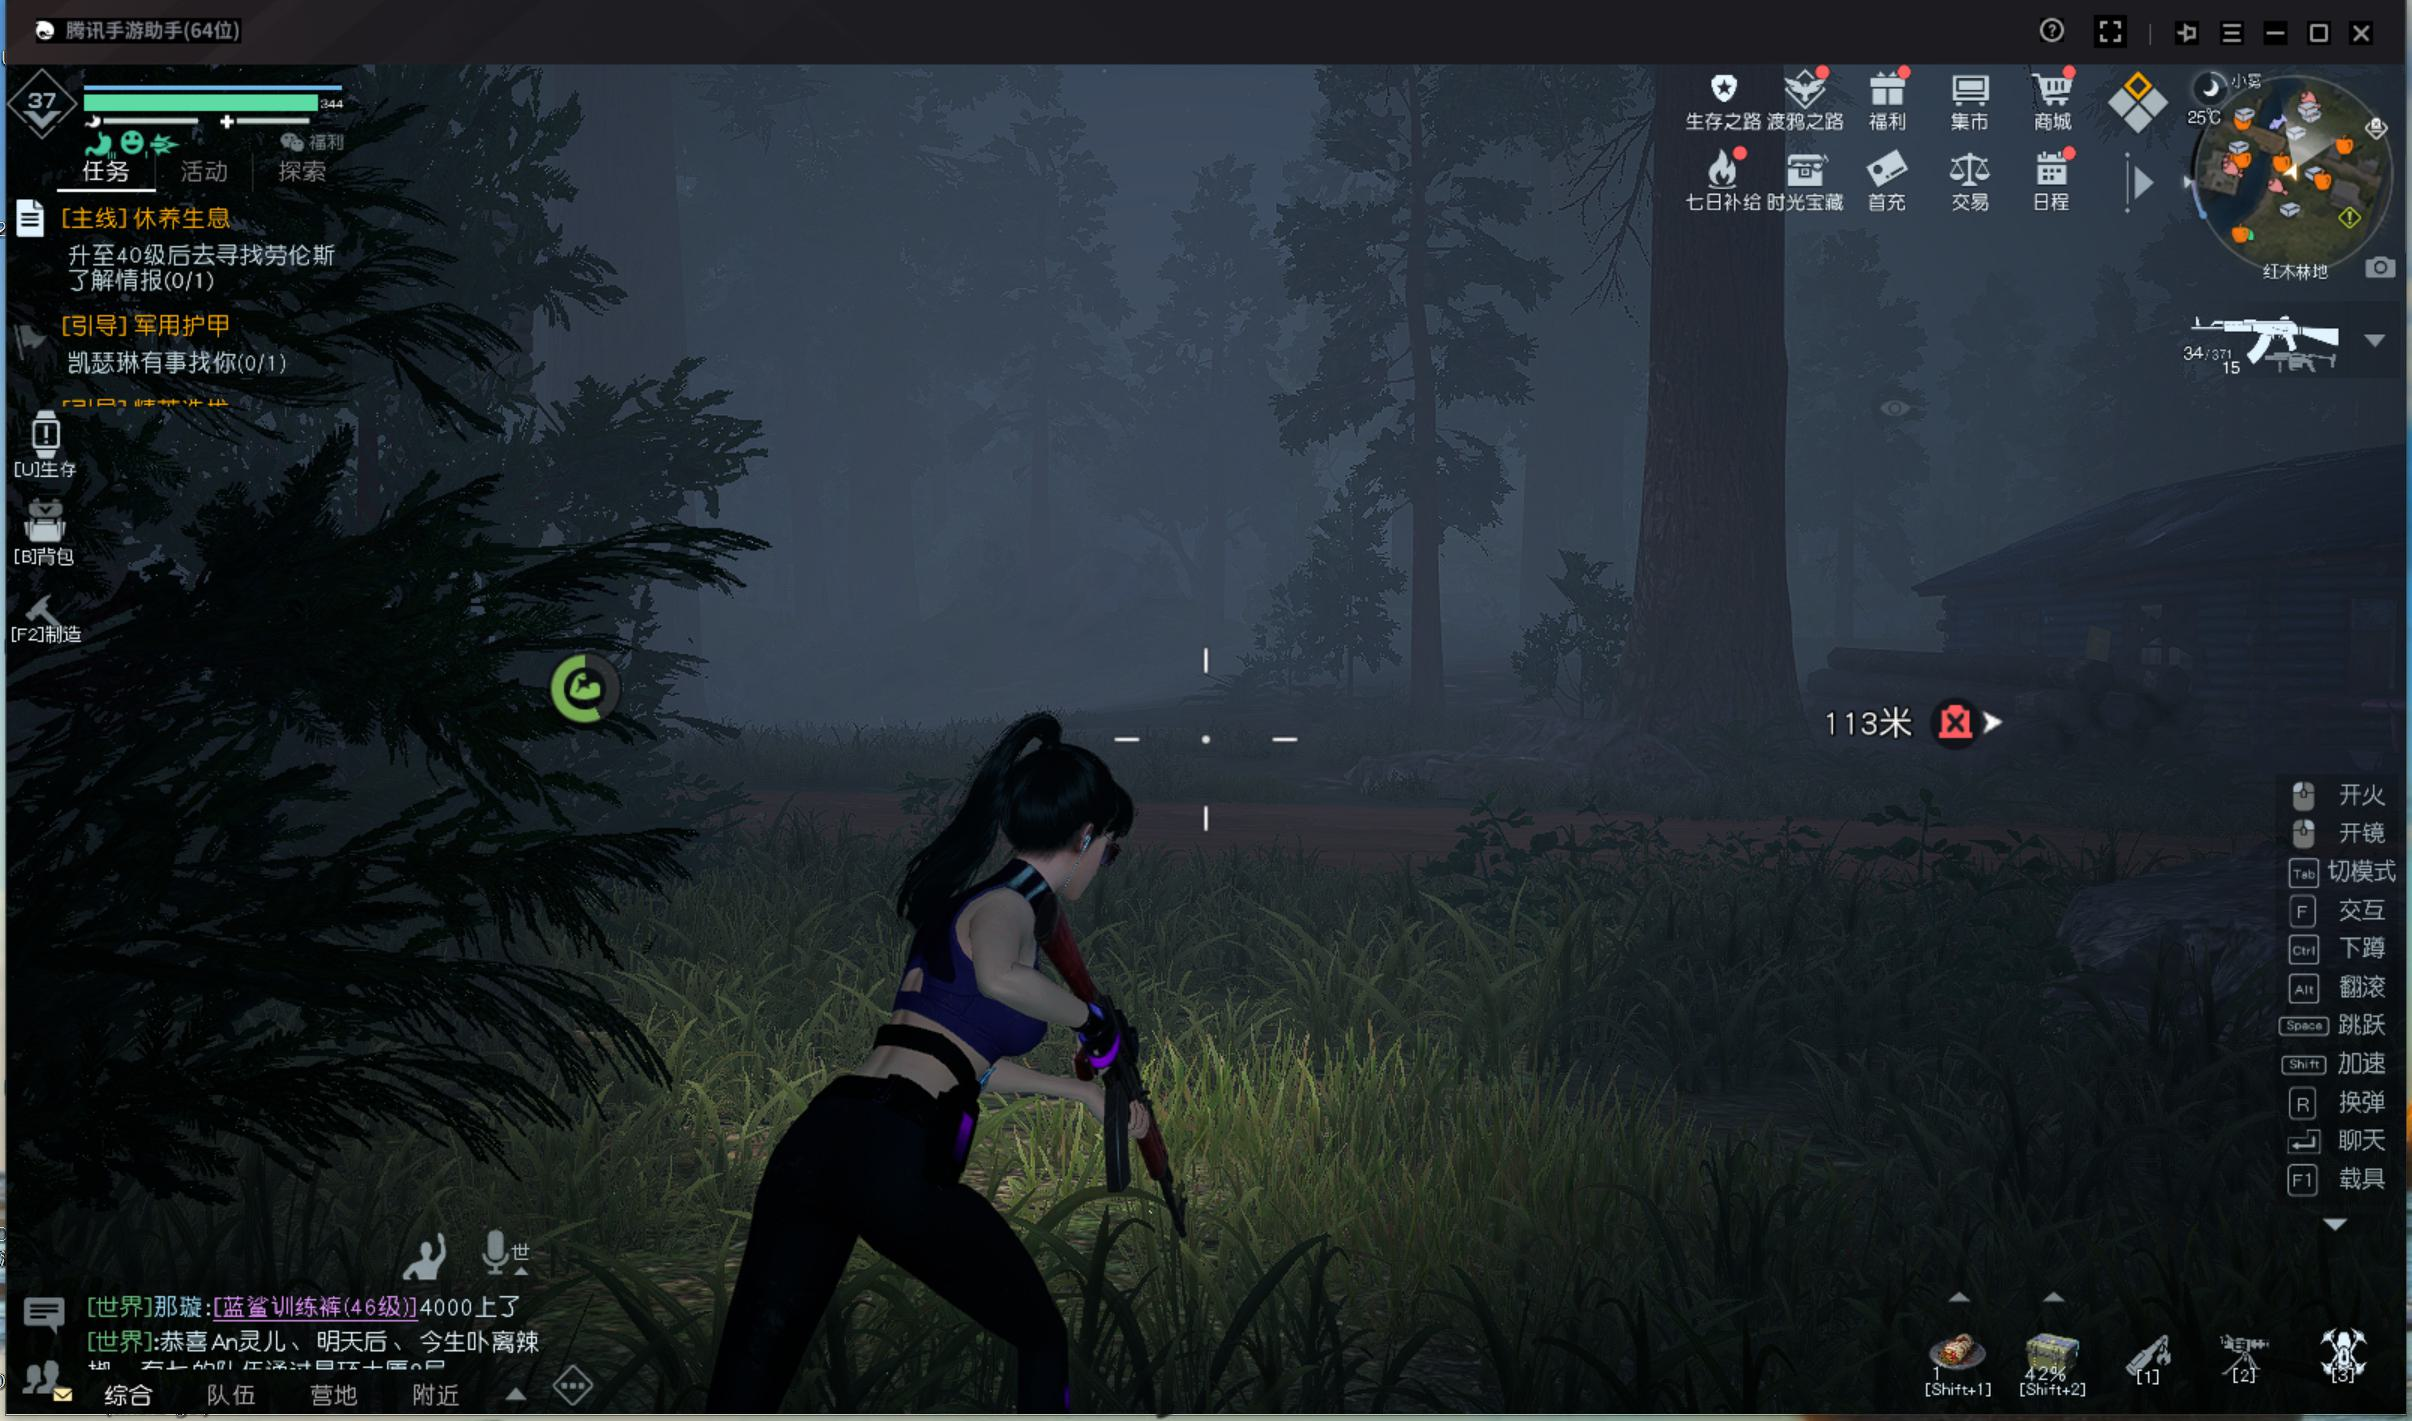tree: (1605, 173, 1823, 804), (1401, 254, 1451, 704)
